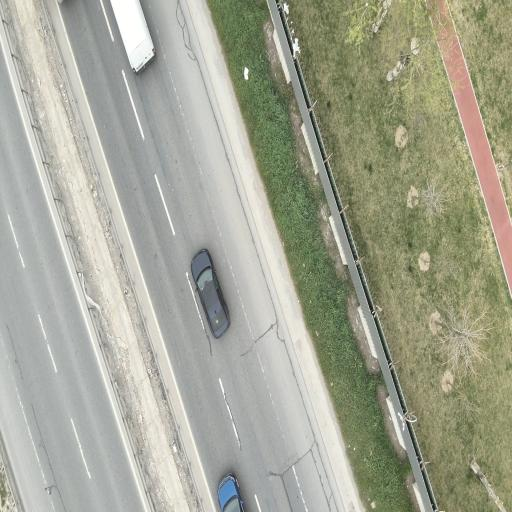car: (191, 249, 230, 338), (218, 474, 243, 511)
truck: (111, 0, 154, 73)
